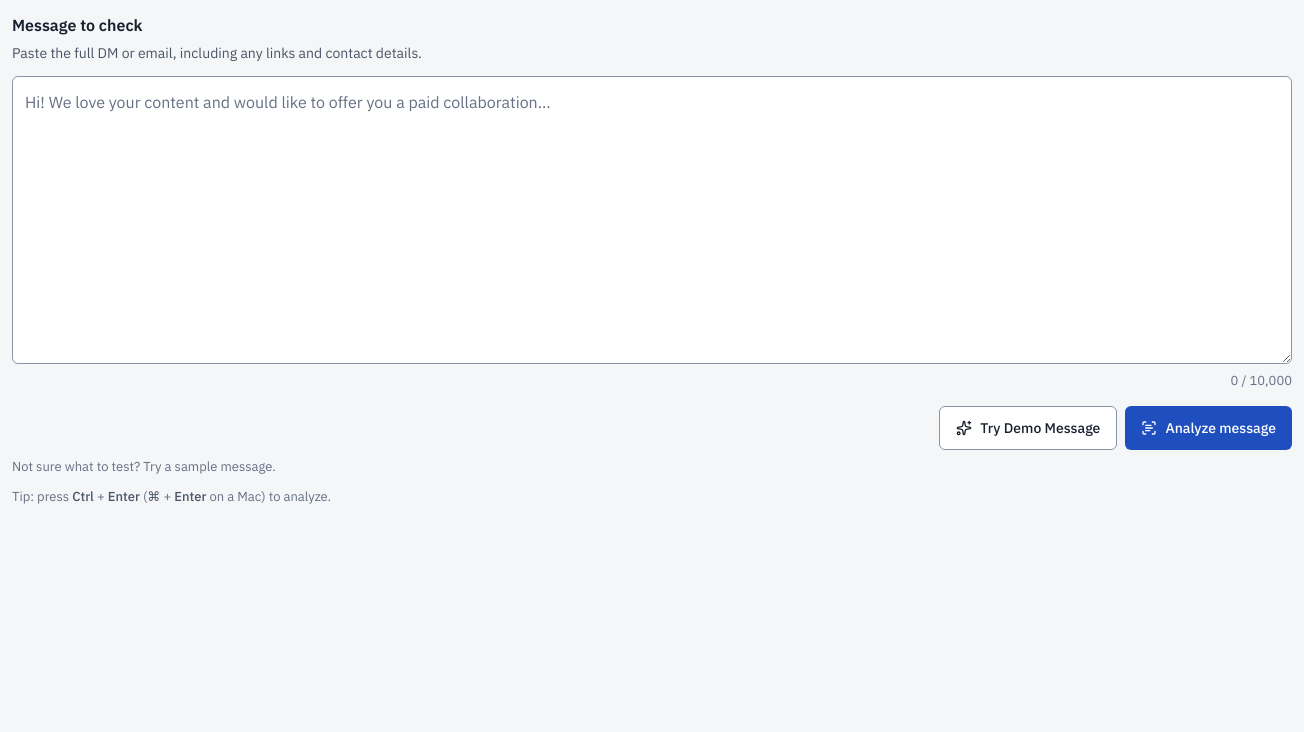
Test: MessageForm › renders Try Demo Message button and helper text, and triggers demo on click without submitting
Expected: the text "Not sure what to test? Try a sample message." is shown, x1=12 y1=458 x2=276 y2=476
Step 1. Click the button "Try Demo Message" → [1028, 428], box x1=939 y1=406 x2=1117 y2=450
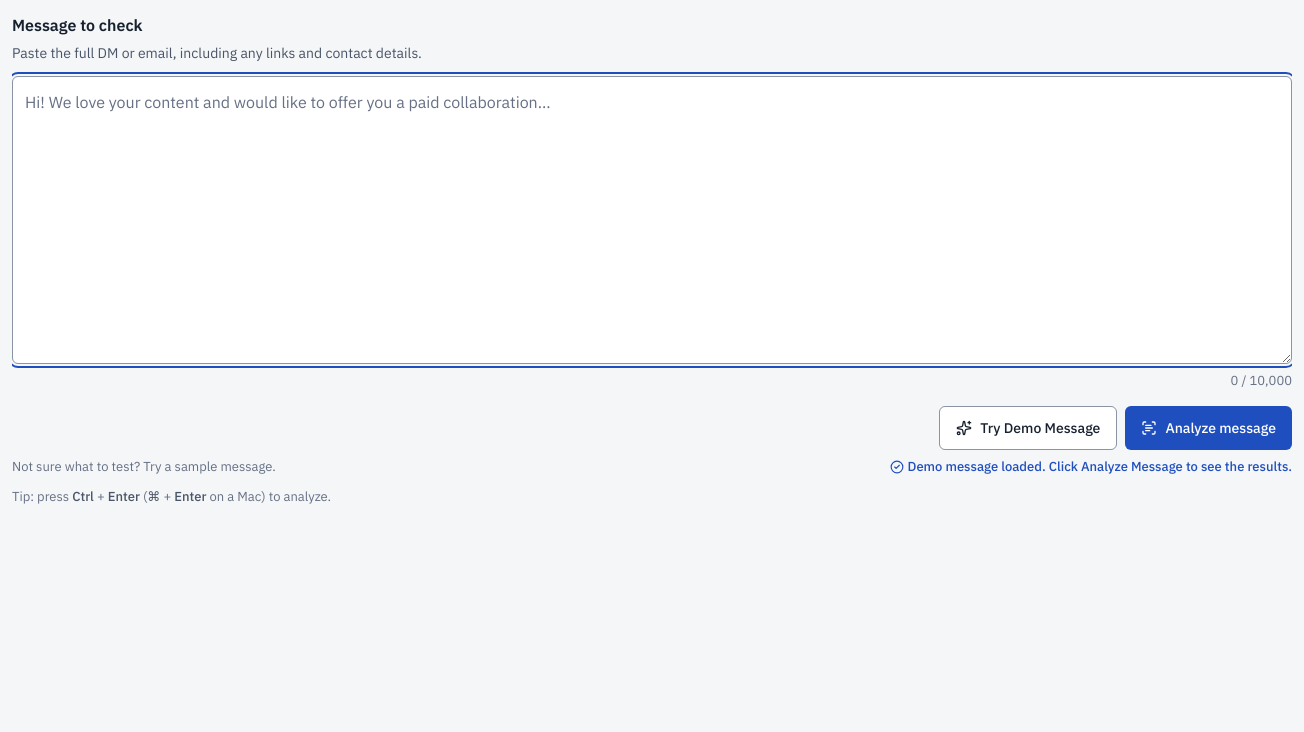
Expected: the text "Demo message loaded. Click Analyze Message to see the results." is shown, x1=890 y1=458 x2=1292 y2=476
